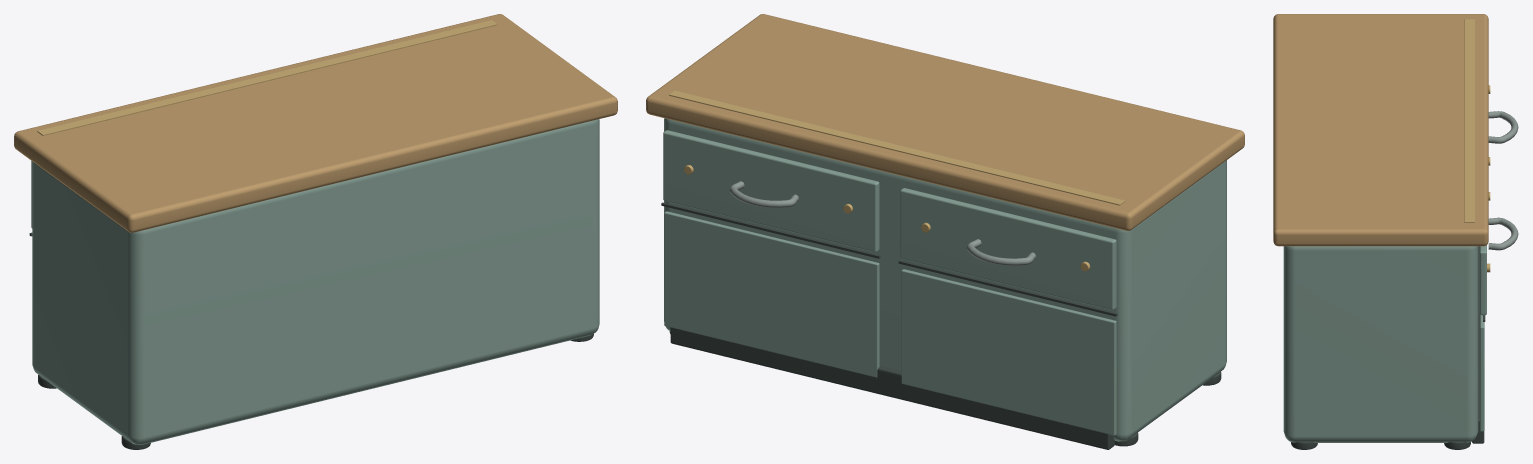
Rendered from workbench.glb.
3 views of the same model, side by side, from view 1: azimuth 30°, elevation 25°; view 2: azimuth 150°, elevation 25°; view 3: azimuth 270°, elevation 25° (orthographic). The views are drawn at different scales.
Visible parts, largest first — view 1: Surface Sage enamel.001, Timber worktop, Surface Worn brass.001; view 2: Surface Sage enamel.001, Timber worktop, Surface Charcoal rubber.002, Surface Worn brass.001, Surface Brushed dark steel; view 3: Timber worktop, Surface Sage enamel.001, Surface Worn brass.001, Surface Brushed dark steel, Surface Charcoal rubber.002.
Boxes of the visible parts, box(x1,y1,x2,y2) form: Surface Sage enamel.001: box(31, 119, 599, 444); Timber worktop: box(14, 14, 617, 232); Surface Worn brass.001: box(37, 20, 497, 135); Surface Sage enamel.001: box(663, 118, 1226, 441); Timber worktop: box(646, 14, 1244, 230); Surface Charcoal rubber.002: box(661, 202, 1221, 449); Surface Worn brass.001: box(669, 90, 1125, 271); Surface Brushed dark steel: box(729, 181, 1035, 265); Timber worktop: box(1273, 14, 1488, 246); Surface Sage enamel.001: box(1283, 245, 1486, 442); Surface Worn brass.001: box(1464, 19, 1490, 272); Surface Brushed dark steel: box(1488, 111, 1518, 250); Surface Charcoal rubber.002: box(1291, 246, 1485, 449).
Size of the model in its own units: 2.5 by 1.2 by 1.18.
